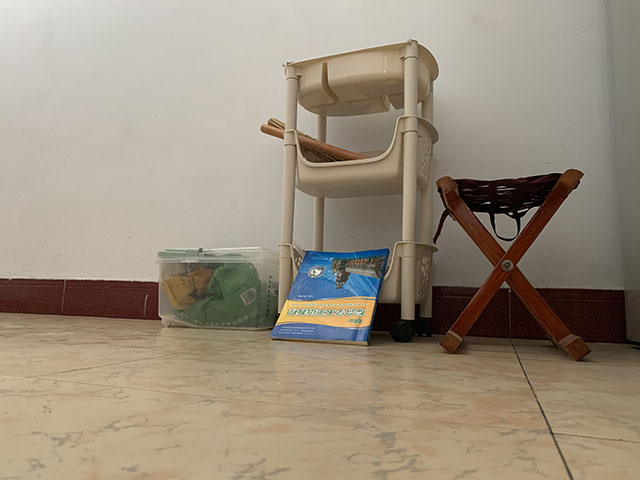book: (269, 248, 391, 348)
stool: (430, 165, 592, 362)
